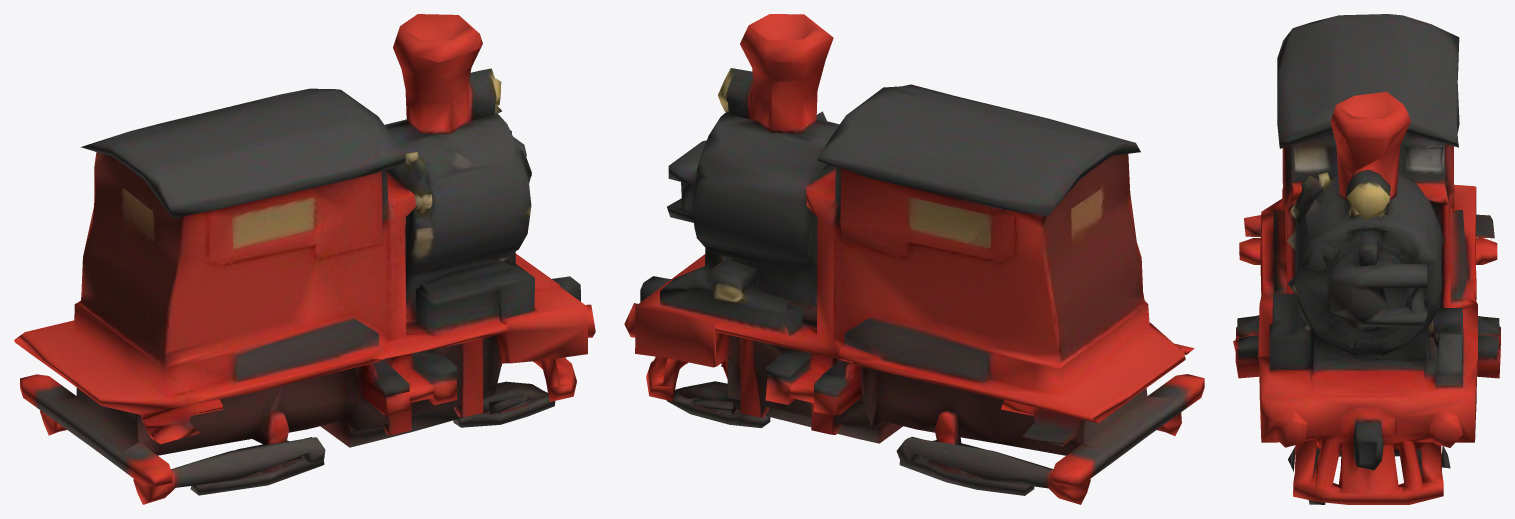
Rendered from train.glb.
3 renders of one model, left to right at view 1: azimuth 30°, elevation 25°; view 2: azimuth 150°, elevation 25°; view 3: azimuth 270°, elevation 25°, orthographic. The views are drawn at different scales.
Visible parts, largest first — view 1: tripo_node_31f058db-5ded-4c83-8962-a13bcf396d4b; view 2: tripo_node_31f058db-5ded-4c83-8962-a13bcf396d4b; view 3: tripo_node_31f058db-5ded-4c83-8962-a13bcf396d4b.
Boxes of the visible parts, box(x1,y1,x2,y2) form: tripo_node_31f058db-5ded-4c83-8962-a13bcf396d4b: box(14, 14, 595, 504); tripo_node_31f058db-5ded-4c83-8962-a13bcf396d4b: box(624, 14, 1204, 504); tripo_node_31f058db-5ded-4c83-8962-a13bcf396d4b: box(1233, 14, 1500, 504).
Size of the model in its own units: 1 by 0.7234 by 0.4826.
Materials: 1 (1 with a texture image).
